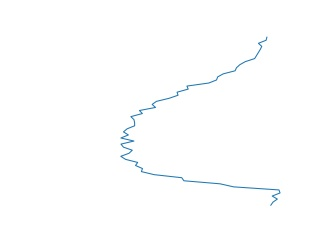underwaterDistributaryChannel: (116, 35, 285, 205)
